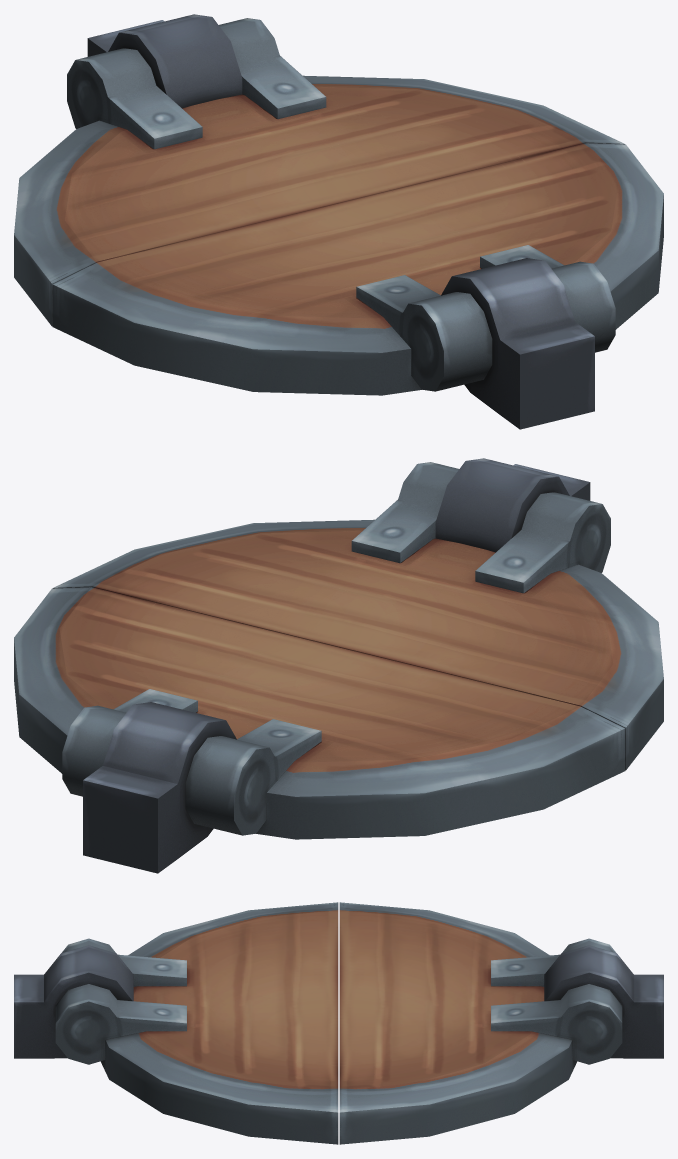
File: Tanks_Spawn.fbx
3 views of the same model, one above another, from view 1: azimuth 30°, elevation 25°; view 2: azimuth 150°, elevation 25°; view 3: azimuth 270°, elevation 25° (orthographic). The views are drawn at different scales.
Parts seen in each view (by area): view 1: Spawn_Point; view 2: Spawn_Point; view 3: Spawn_Point.
Part boxes in pixels (left/top/right/bottom): Spawn_Point: left=14, top=14, right=663, bottom=429; Spawn_Point: left=14, top=458, right=663, bottom=873; Spawn_Point: left=14, top=902, right=663, bottom=1144.
Size of the model in its own units: 1.18 by 0.2253 by 1.54.
